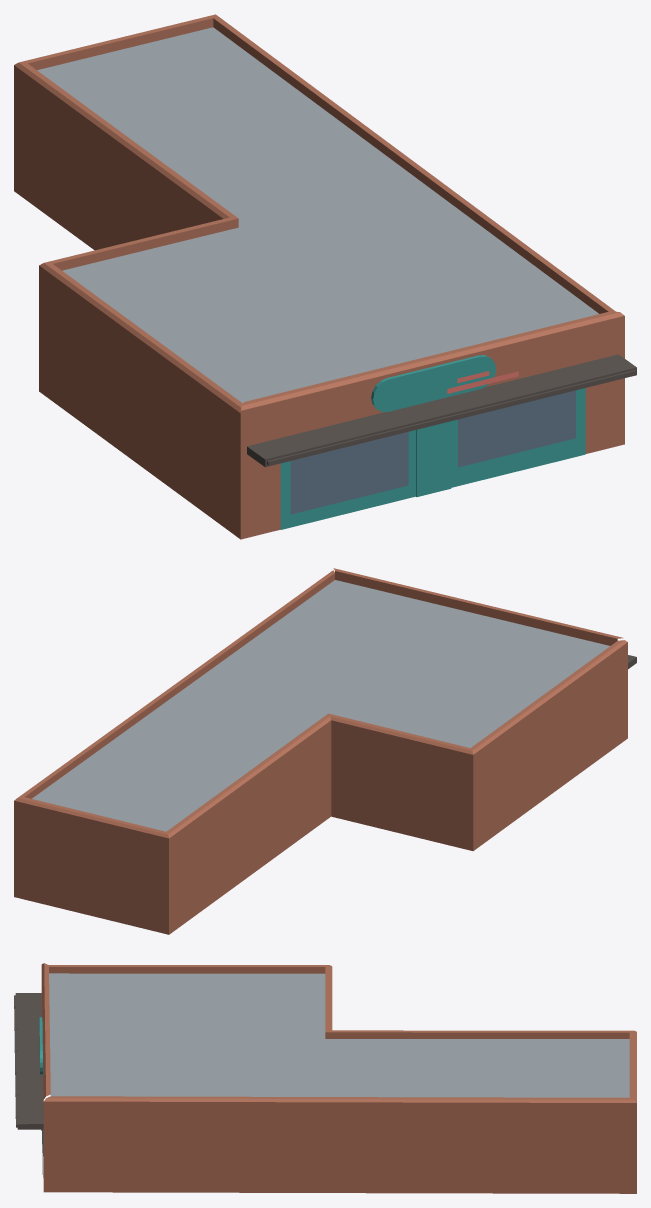
The model's file is petras.glb.
3 views of the same model, one above another, from view 1: azimuth 30°, elevation 25°; view 2: azimuth 150°, elevation 25°; view 3: azimuth 270°, elevation 25° (orthographic). The views are drawn at different scales.
Visible parts, largest first — view 1: Petra's; view 2: Petra's; view 3: Petra's.
Boxes of the visible parts, x1,y1,x2,y2 form: Petra's: (14, 14, 636, 539); Petra's: (14, 568, 636, 934); Petra's: (14, 963, 636, 1193).
Bounding box in the file's own units: 15.79 × 5.1 × 30.36.
